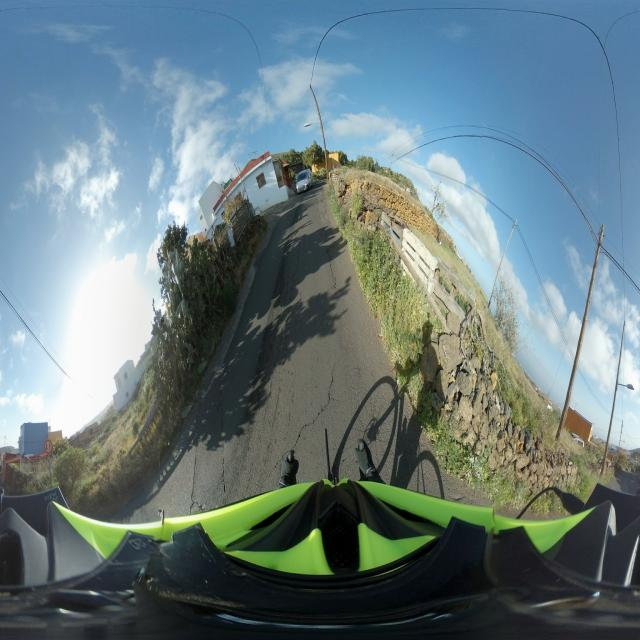car: (292, 169, 312, 194)
